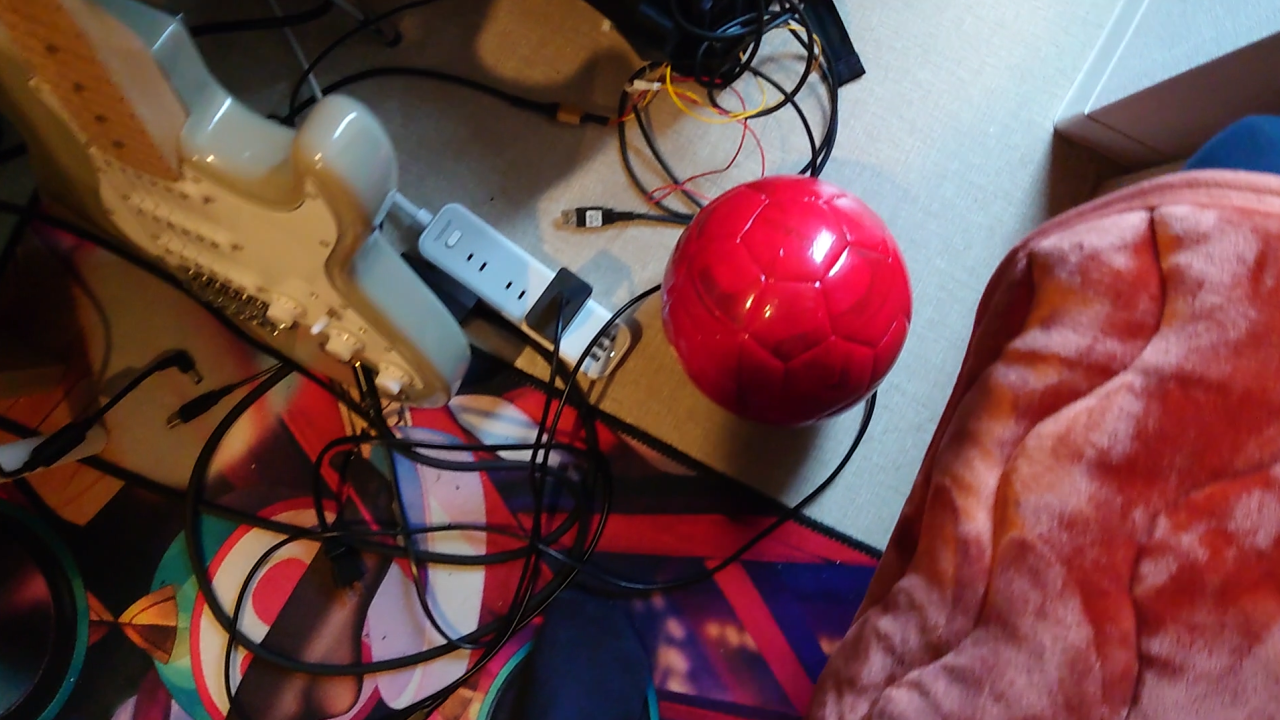red: (656, 178, 913, 425)
